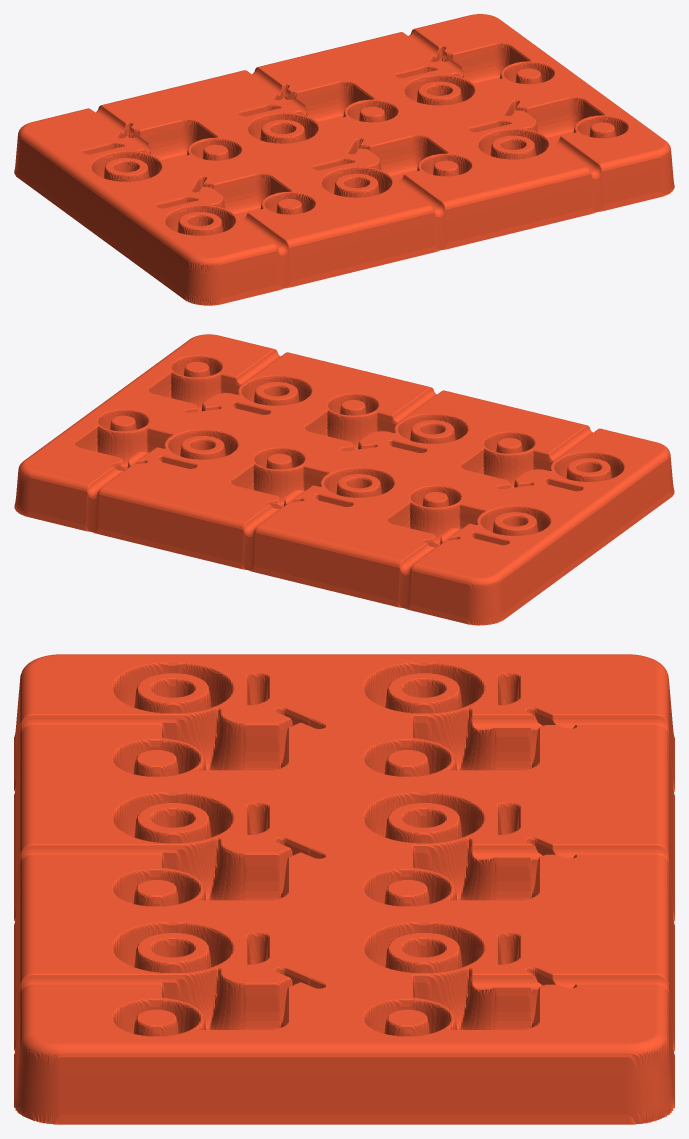
Rendered from mold.glb.
The picture shows the model from 3 angles, top to bottom: view 1: azimuth 30°, elevation 25°; view 2: azimuth 150°, elevation 25°; view 3: azimuth 270°, elevation 25°; orthographic projection. The views are drawn at different scales.
Parts seen in each view (by area): view 1: geometry_0; view 2: geometry_0; view 3: geometry_0.
Part boxes in pixels (x1=…): geometry_0: x1=14, y1=14, x2=674, y2=305; geometry_0: x1=14, y1=334, x2=674, y2=625; geometry_0: x1=14, y1=654, x2=674, y2=1124.
Bounding box in the file's own units: 0.1824 × 0.0155 × 0.1262.
